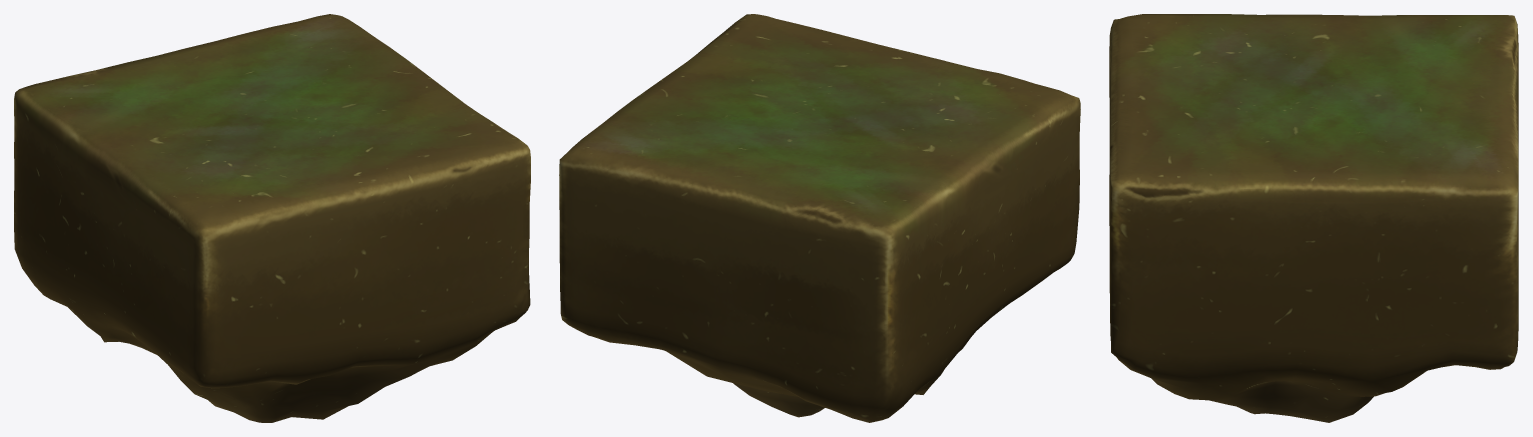
Rendered from island.glb.
3 renders of one model, left to right at view 1: azimuth 30°, elevation 25°; view 2: azimuth 150°, elevation 25°; view 3: azimuth 270°, elevation 25°, orthographic. The views are drawn at different scales.
Visible parts, largest first — view 1: Retopo_Cube.002; view 2: Retopo_Cube.002; view 3: Retopo_Cube.002.
Part boxes in pixels (bbox=[...]): Retopo_Cube.002: bbox=[14, 14, 530, 422]; Retopo_Cube.002: bbox=[559, 14, 1080, 422]; Retopo_Cube.002: bbox=[1109, 14, 1518, 422].
Bounding box in the file's own units: 2 × 1.68 × 2.
Materials: 1 (1 with a texture image).
